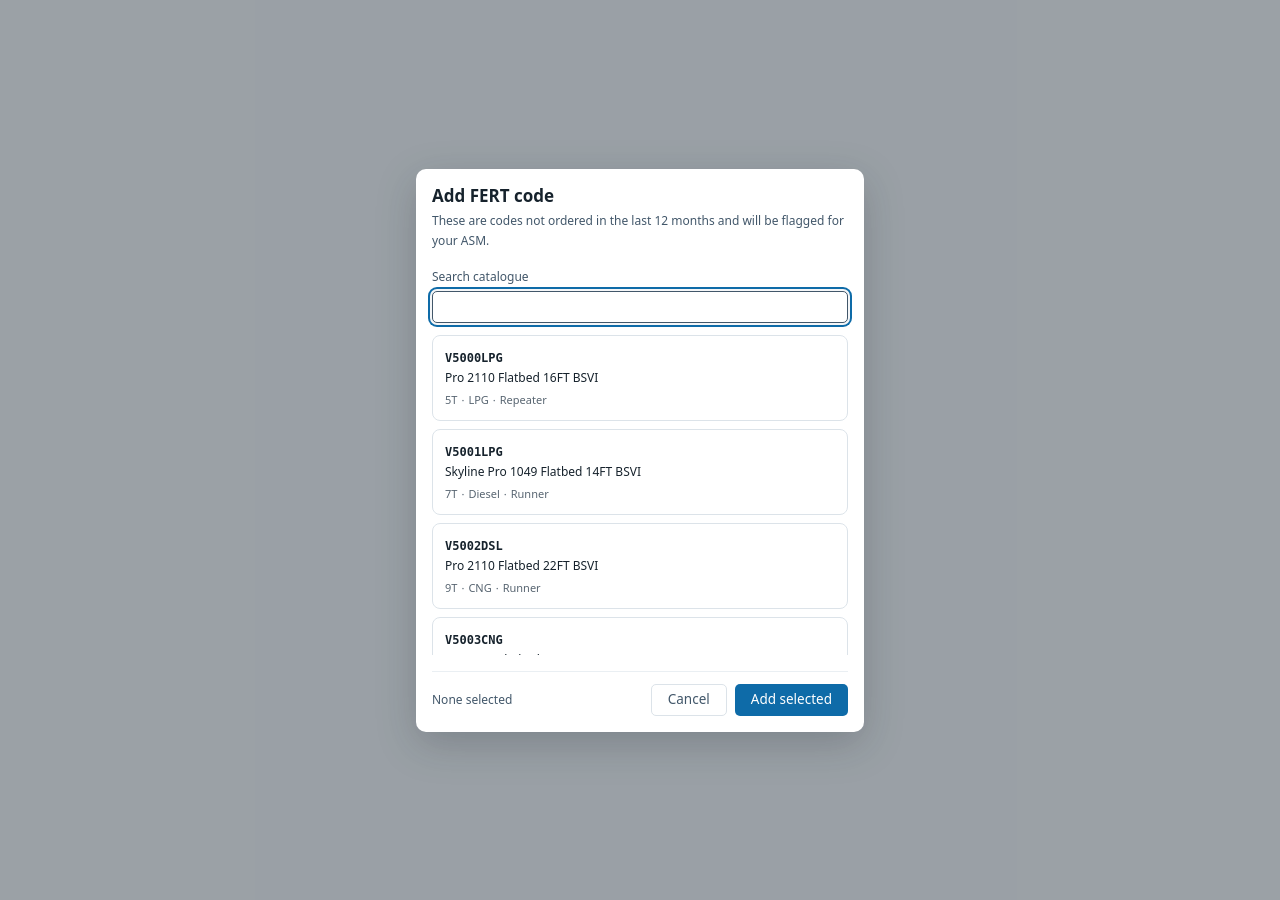
Test case: AddFertModal › disables Add selected while submitting selected rows
Click the button "V5000LPG Pro 2110 Flatbed 16FT BSVI 5T · LPG · Repeater" at coordinates (474, 358), box 432,334 -> 848,420
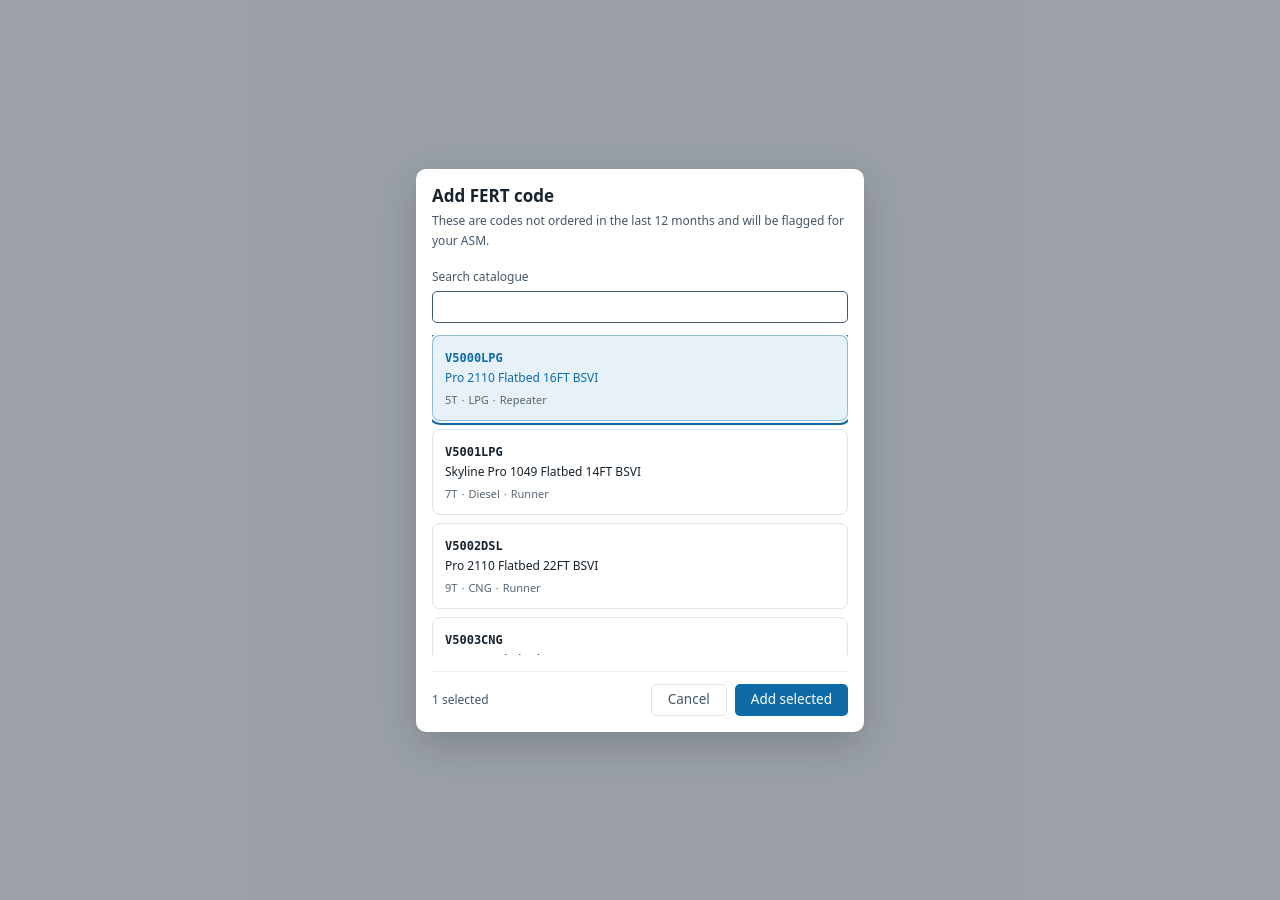
Click the button "Add selected" at coordinates (791, 700), box 735,684 -> 848,716
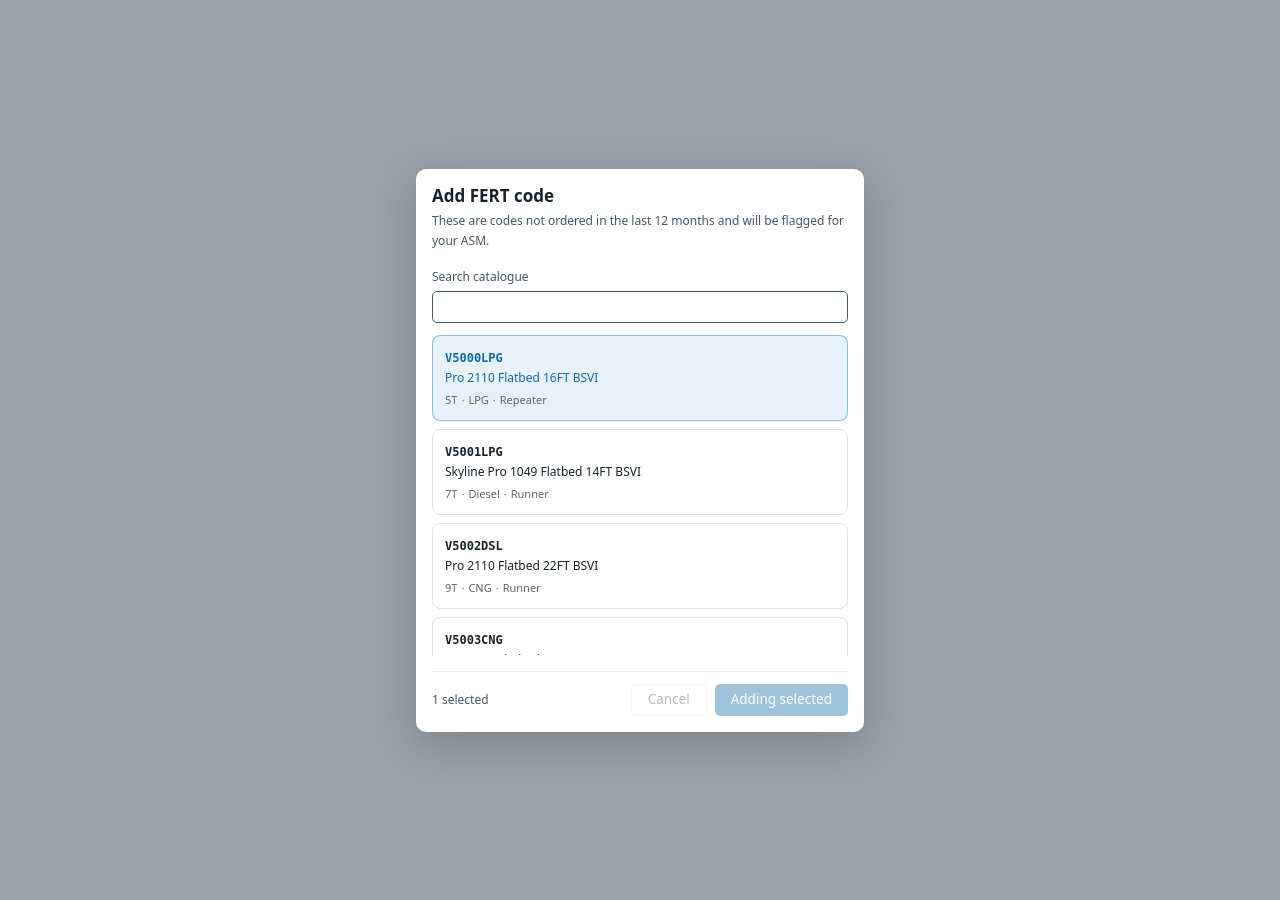
Check: the button "Adding selected" is disabled, box 715,684 -> 848,716
